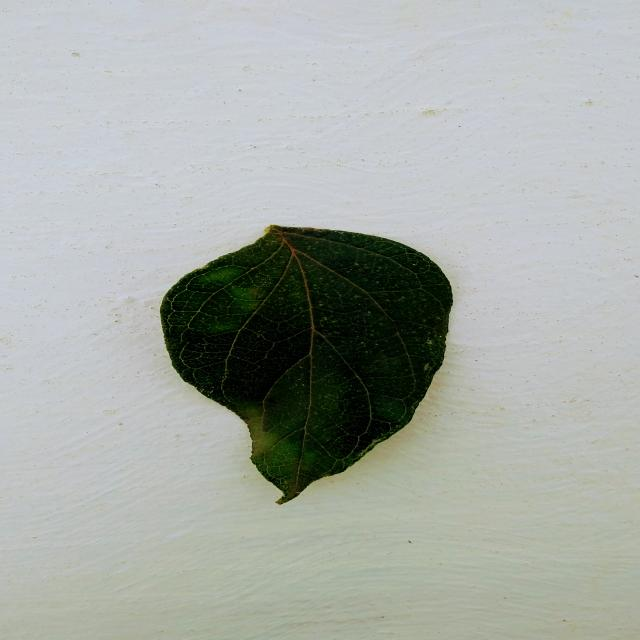Parijatha: (160, 225, 453, 504)
